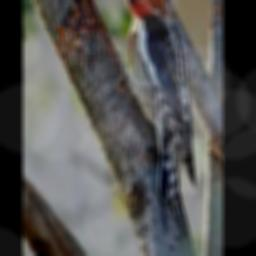Woodpecker: (109, 0, 196, 235)
